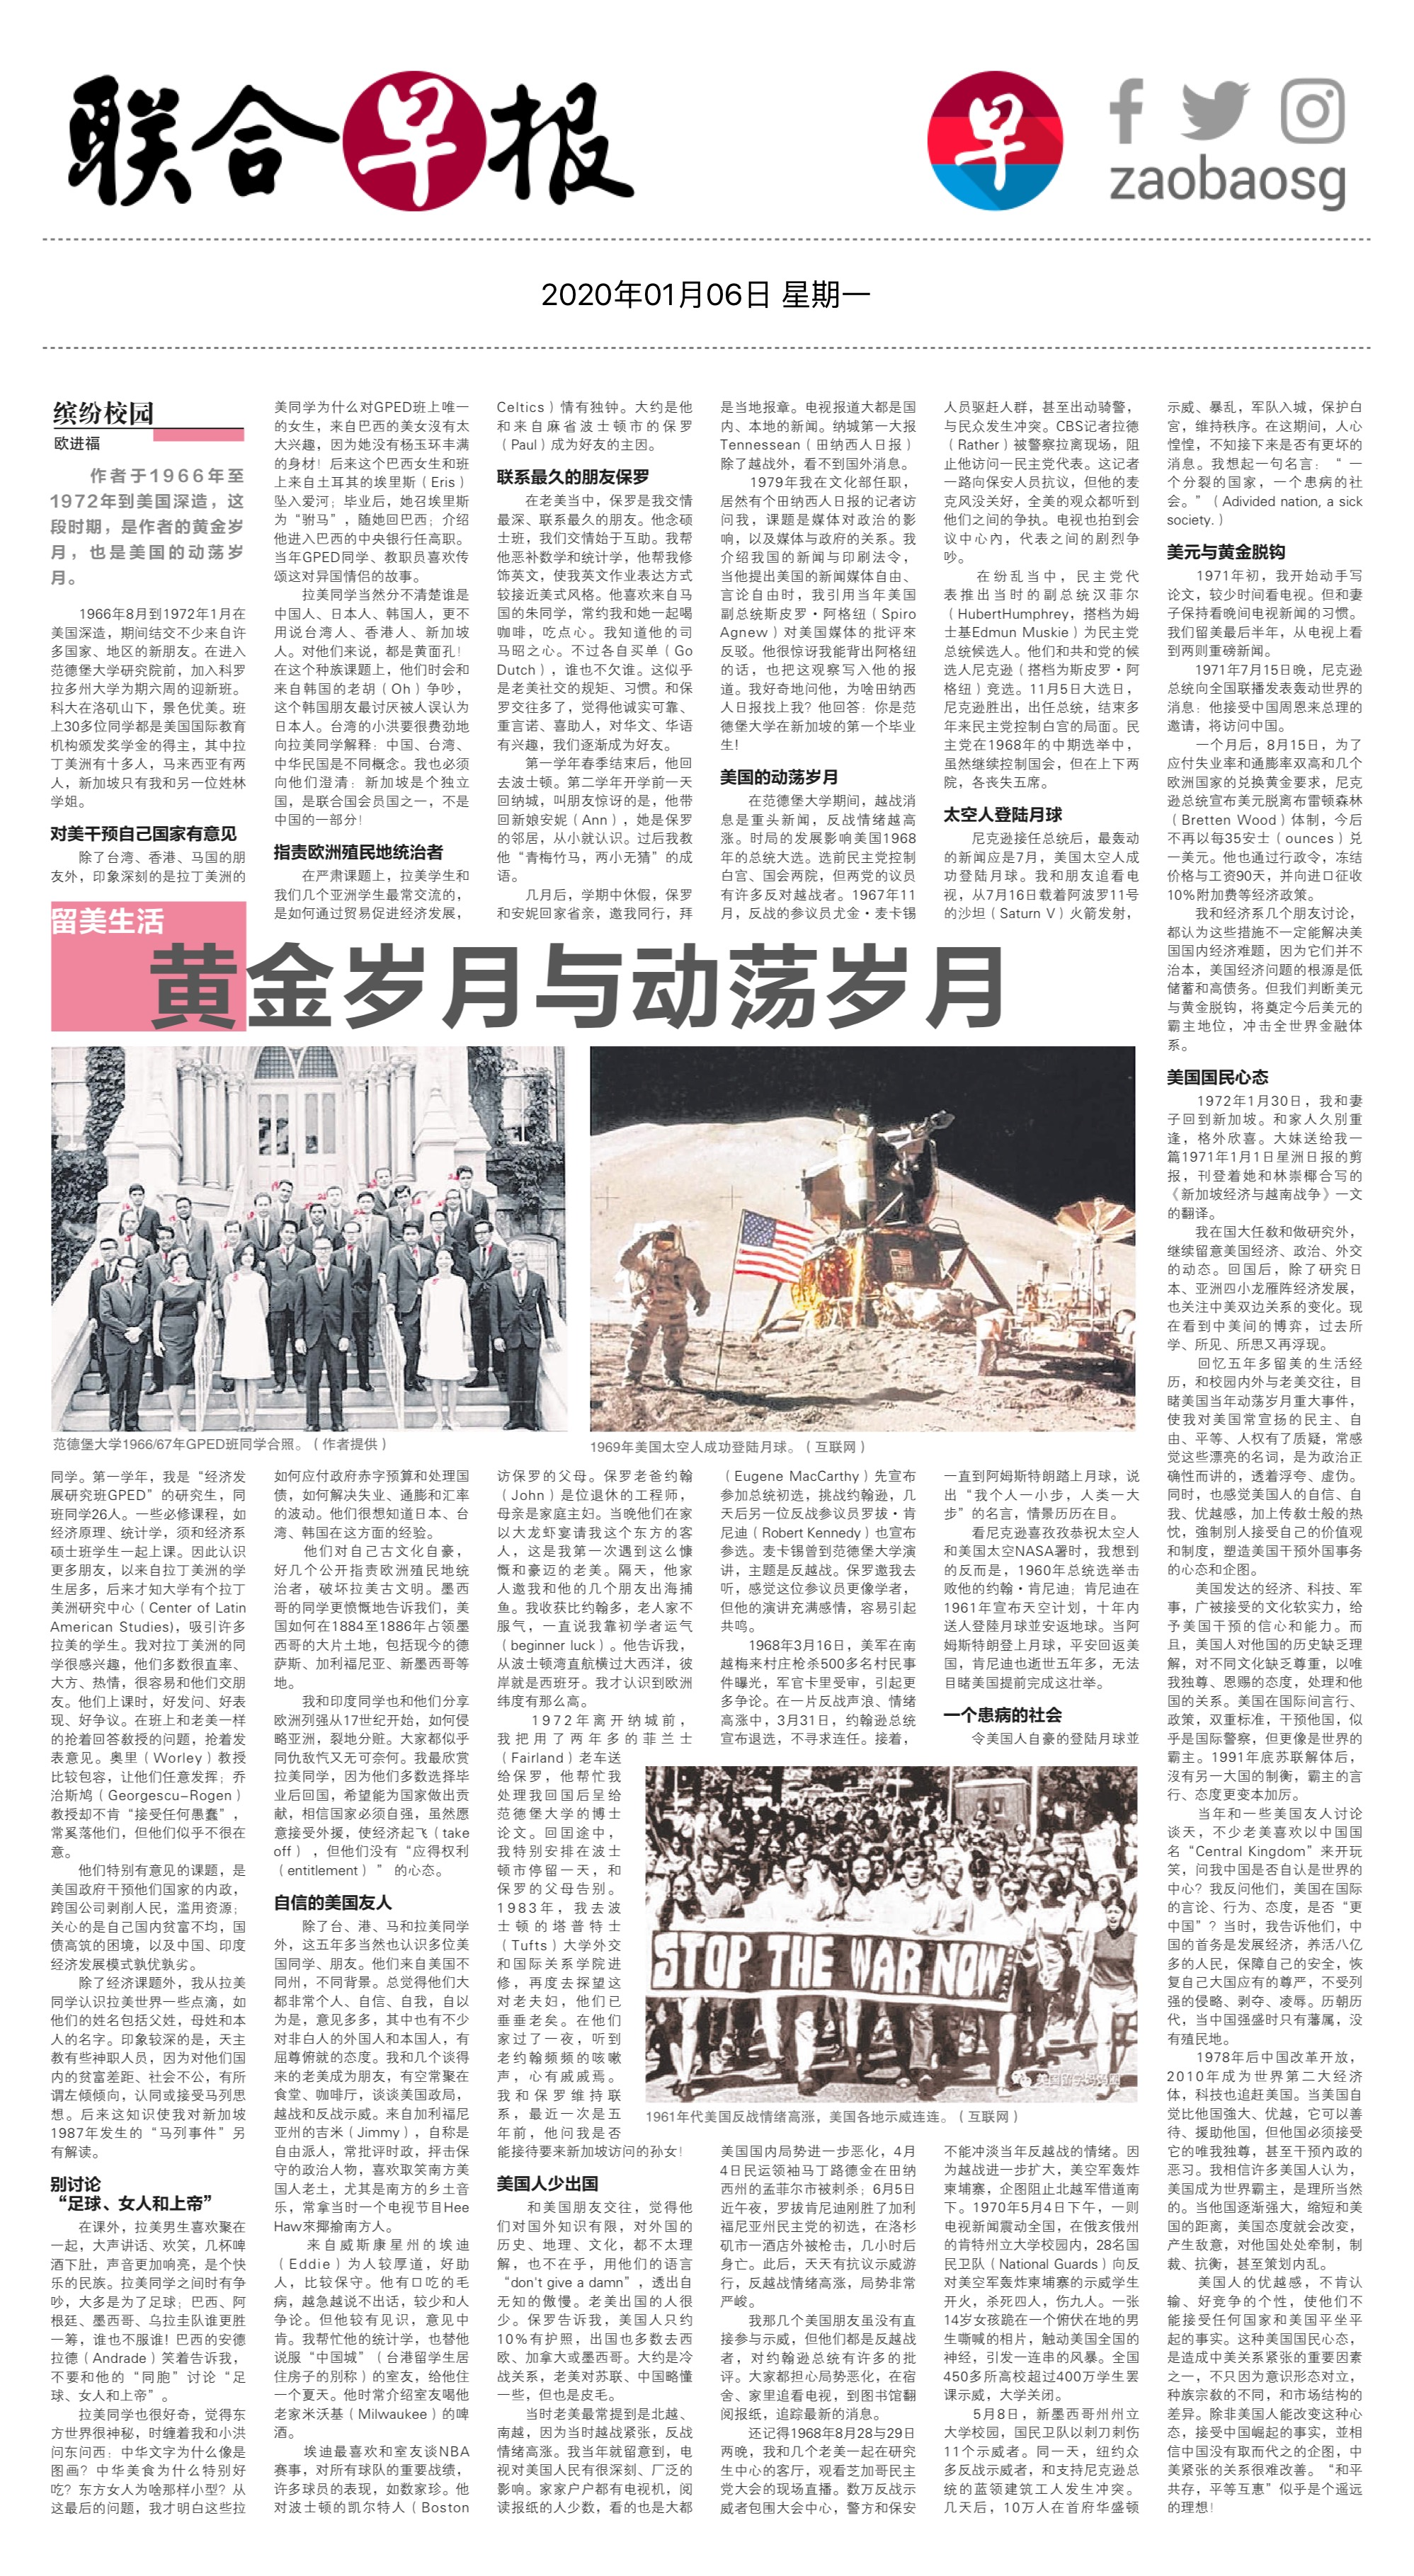heading: (141, 931, 1015, 1041)
